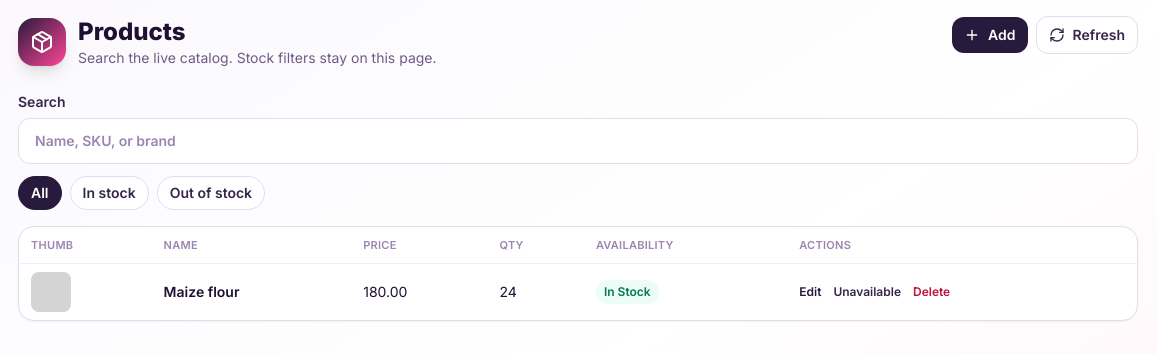
Scenario: CatalogProducts page › drops the previous rows when a search fails
Type "flour" into the search field labelled "Search" at (578, 141), box [18,118,1138,164]
Wait 250 ms
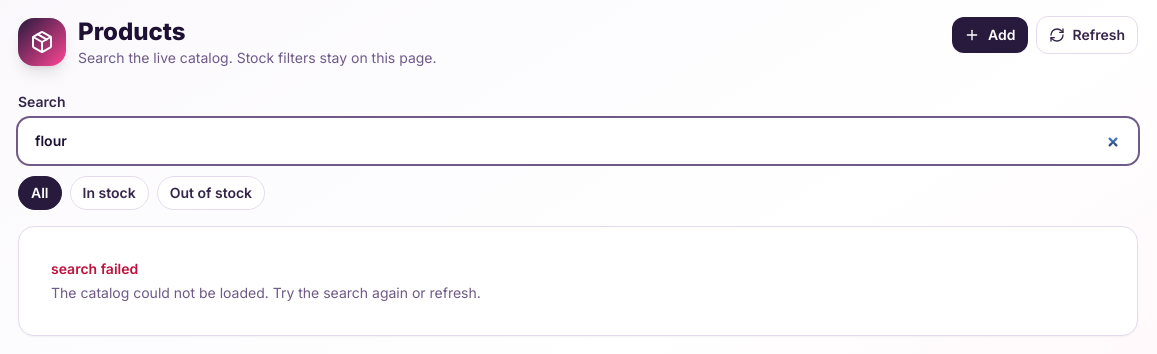
Now the message shows "search failed", box [51,260,138,277]
Now the text "Maize flour" is not shown
